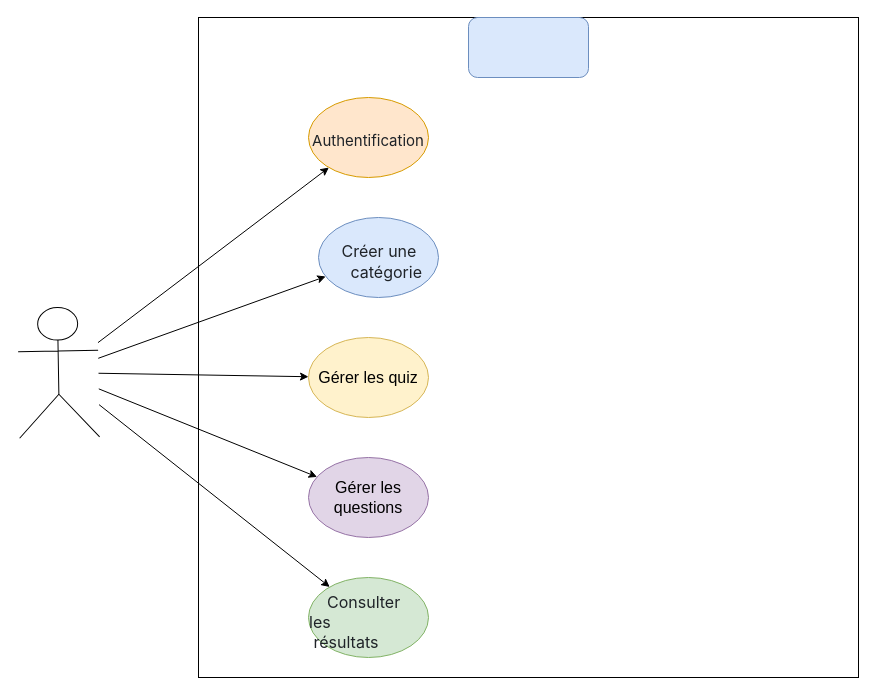
Some shapes in this 877 by 695 pixel diagram are drawn without their labels. Here are the shapes that lost their labels. From the top down, the box of each, then its label:
(468, 16, 588, 78): Qodex V2
(16, 306, 100, 438): user
